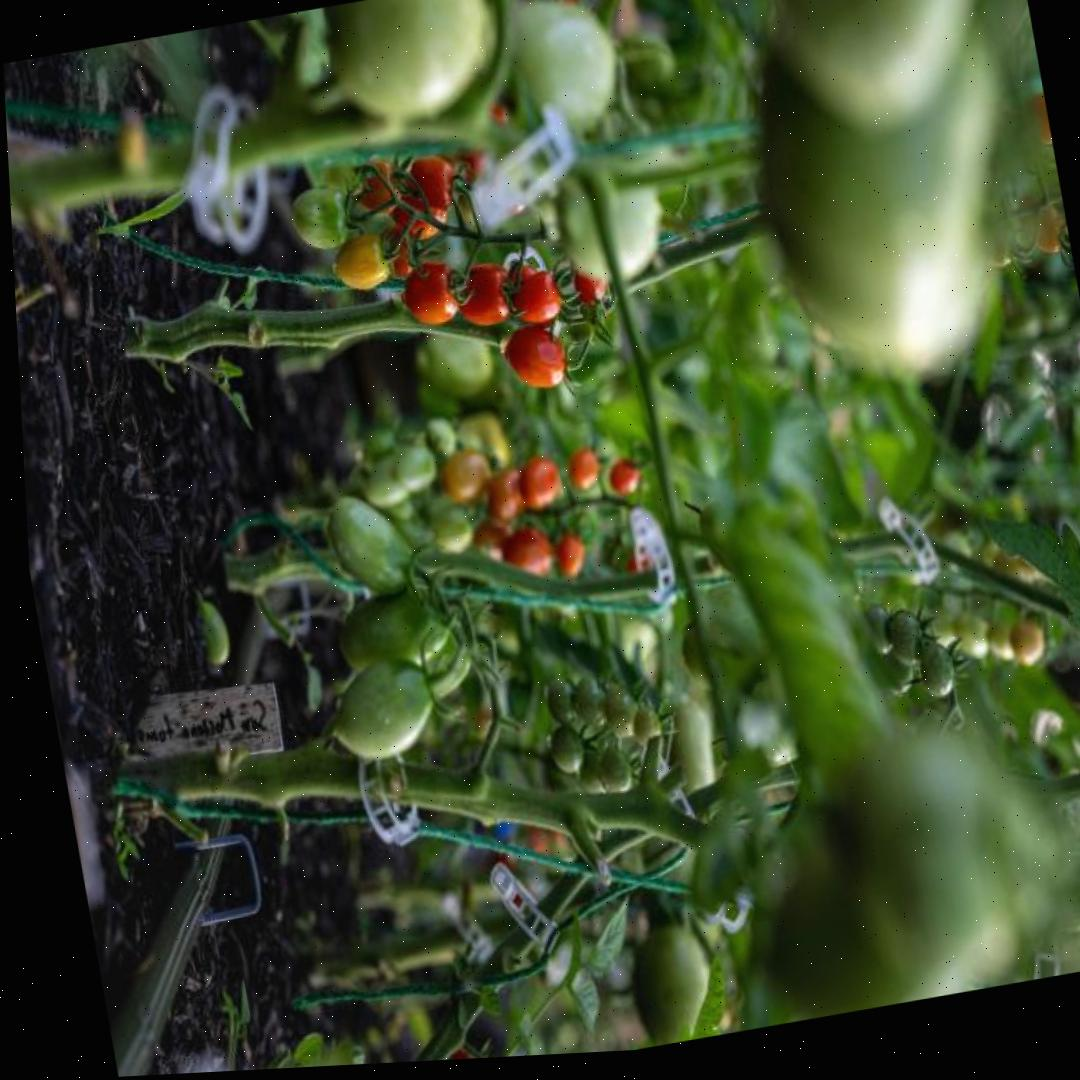matang: (498, 319, 571, 393), (397, 257, 464, 328), (453, 255, 516, 328), (408, 145, 458, 213), (511, 264, 564, 324)
mentah: (317, 649, 441, 767), (320, 482, 423, 602), (285, 177, 353, 252)
setengah_matang: (327, 228, 392, 294)
